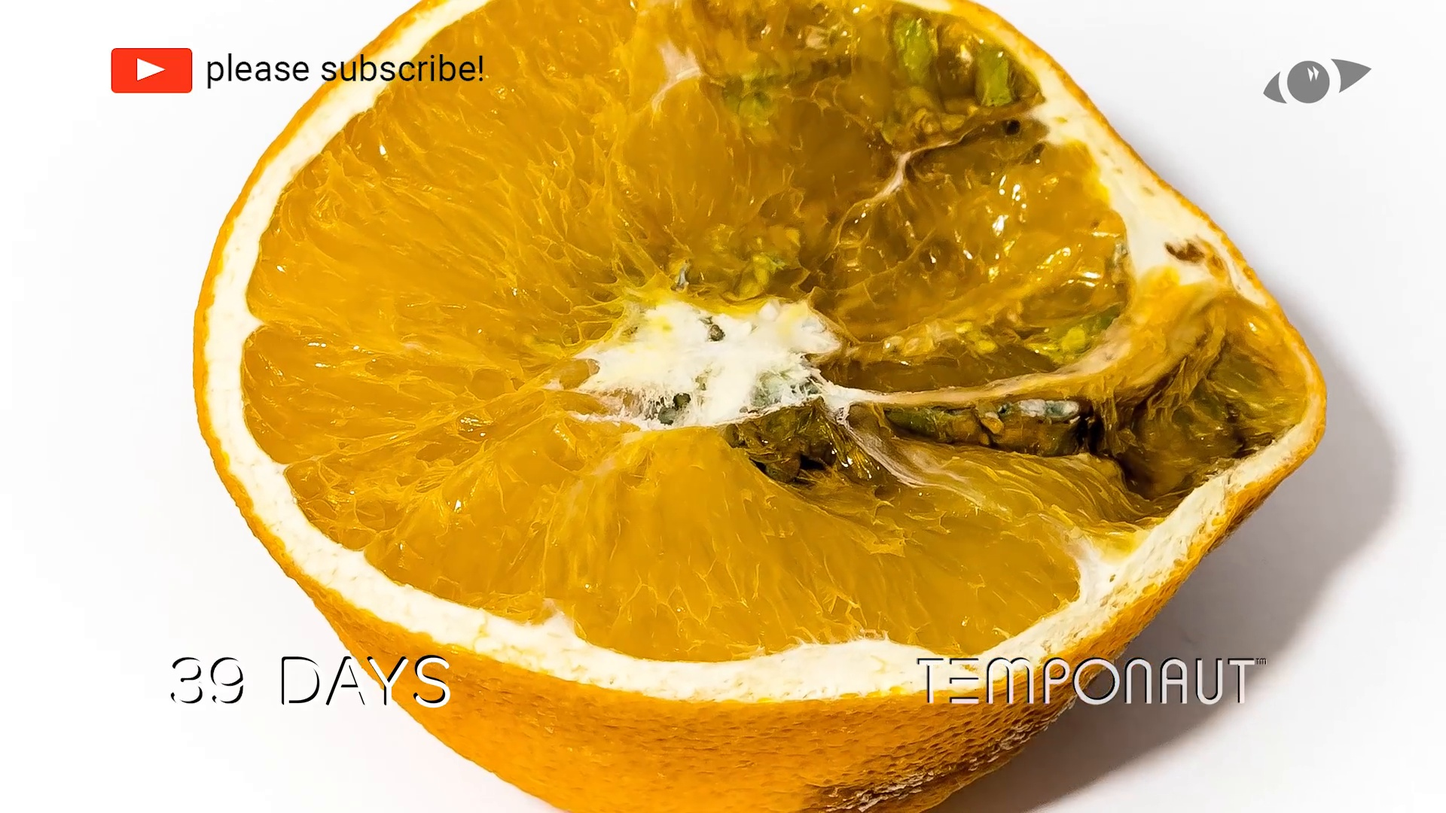orange_rotten: (192, 1, 1328, 801)
